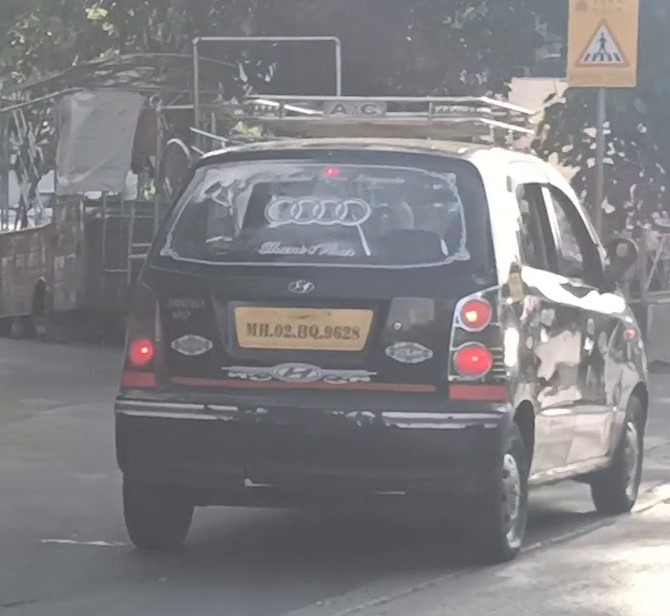MH02BQ9628: (230, 306, 374, 351)
